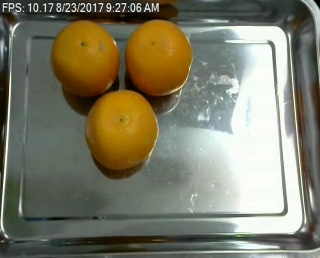Orange: (84, 89, 159, 169), (51, 19, 120, 95), (124, 18, 191, 95)
